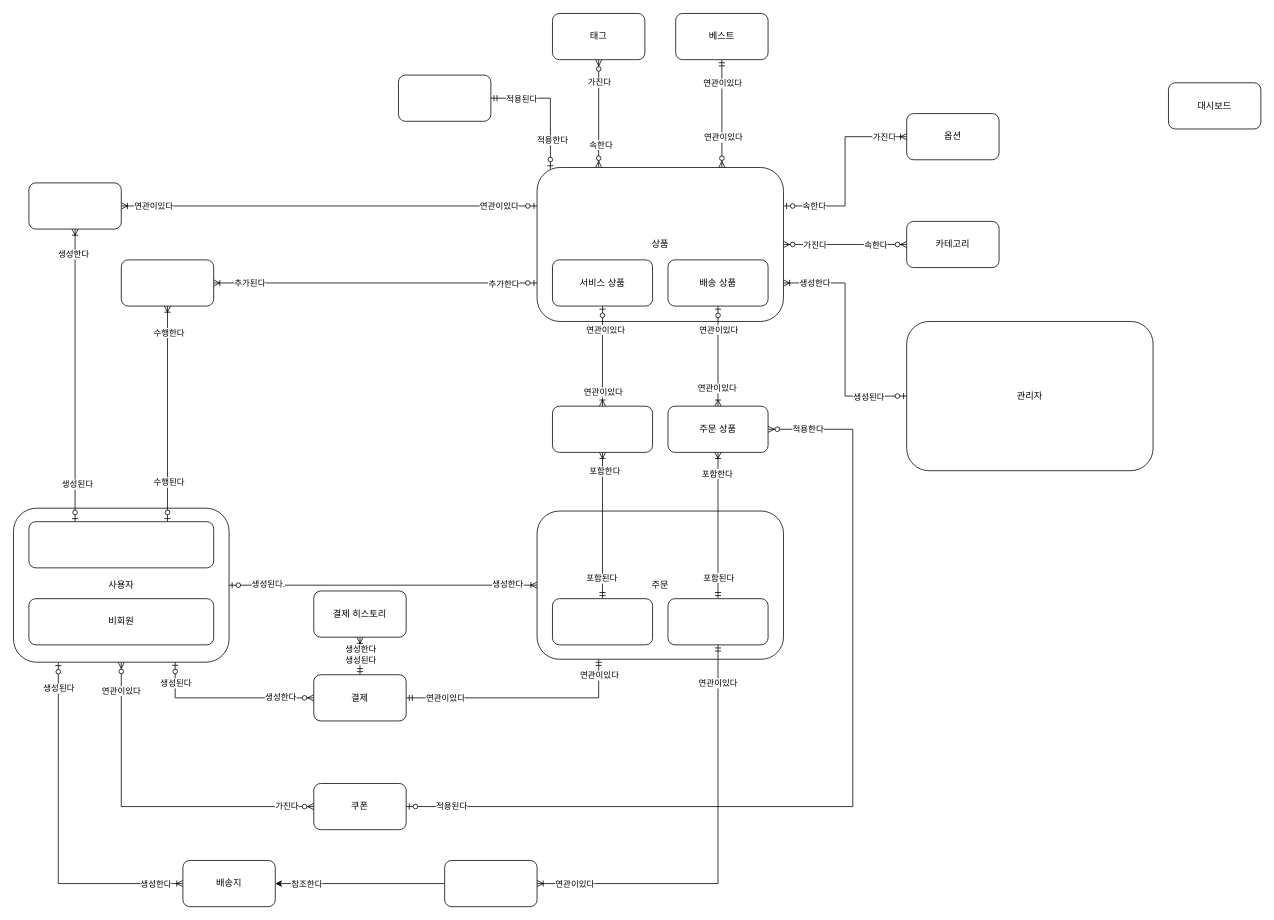
The diagram is 1274 pixels wide and 920 high, and some of its shapes have lost their labels. Each missing label, with the centre of its shape:
"배송" belongs at pixel 490 883.
"배송 주문" belongs at pixel 717 621.
"서비스 주문" belongs at pixel 602 621.
"서비스 주문 상품" belongs at pixel 602 428.
"장바구니" belongs at pixel 74 205.
"좋아요" belongs at pixel 167 282.
"할인" belongs at pixel 444 97.
"회원" belongs at pixel 121 544.
